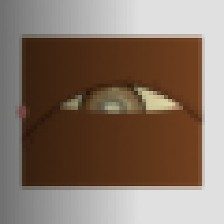corneal_ulcer: (87, 88, 144, 134)
